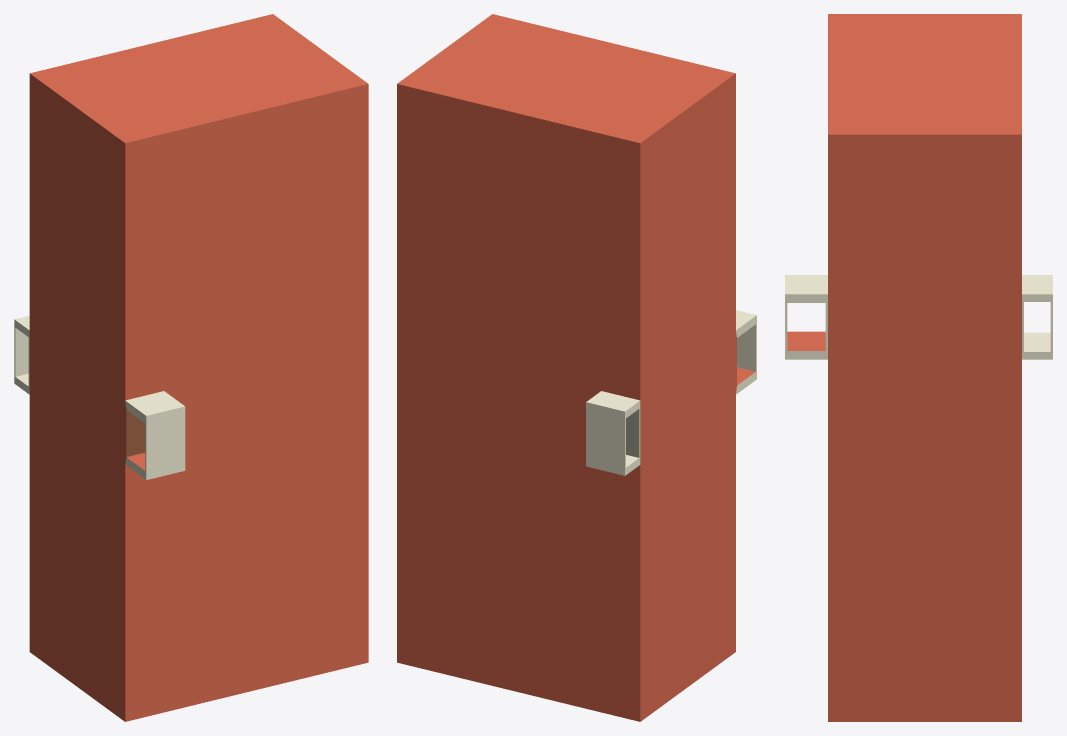
Rendered from PUERTA.glb.
3 renders of one model, left to right at view 1: azimuth 30°, elevation 25°; view 2: azimuth 150°, elevation 25°; view 3: azimuth 270°, elevation 25°, orthographic.
Visible parts, largest first — view 1: Cube.011; view 2: Cube.011; view 3: Cube.011.
Part boxes in pixels (box(x1,y1,x2,y2)): Cube.011: box(14, 14, 368, 721); Cube.011: box(397, 14, 756, 721); Cube.011: box(785, 14, 1052, 721).
Bounding box in the file's own units: 5.91 × 13.43 × 5.55.
Materials: 1 (1 with a texture image).
